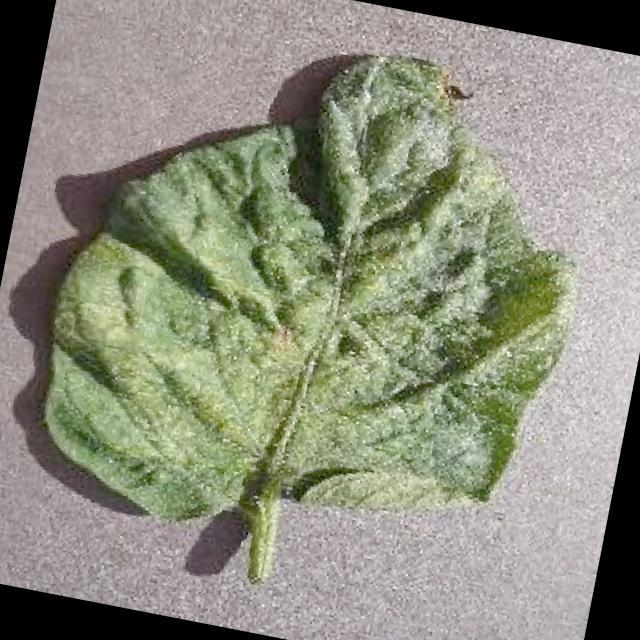Tomato spider mites leaf: (22, 0, 614, 589)
